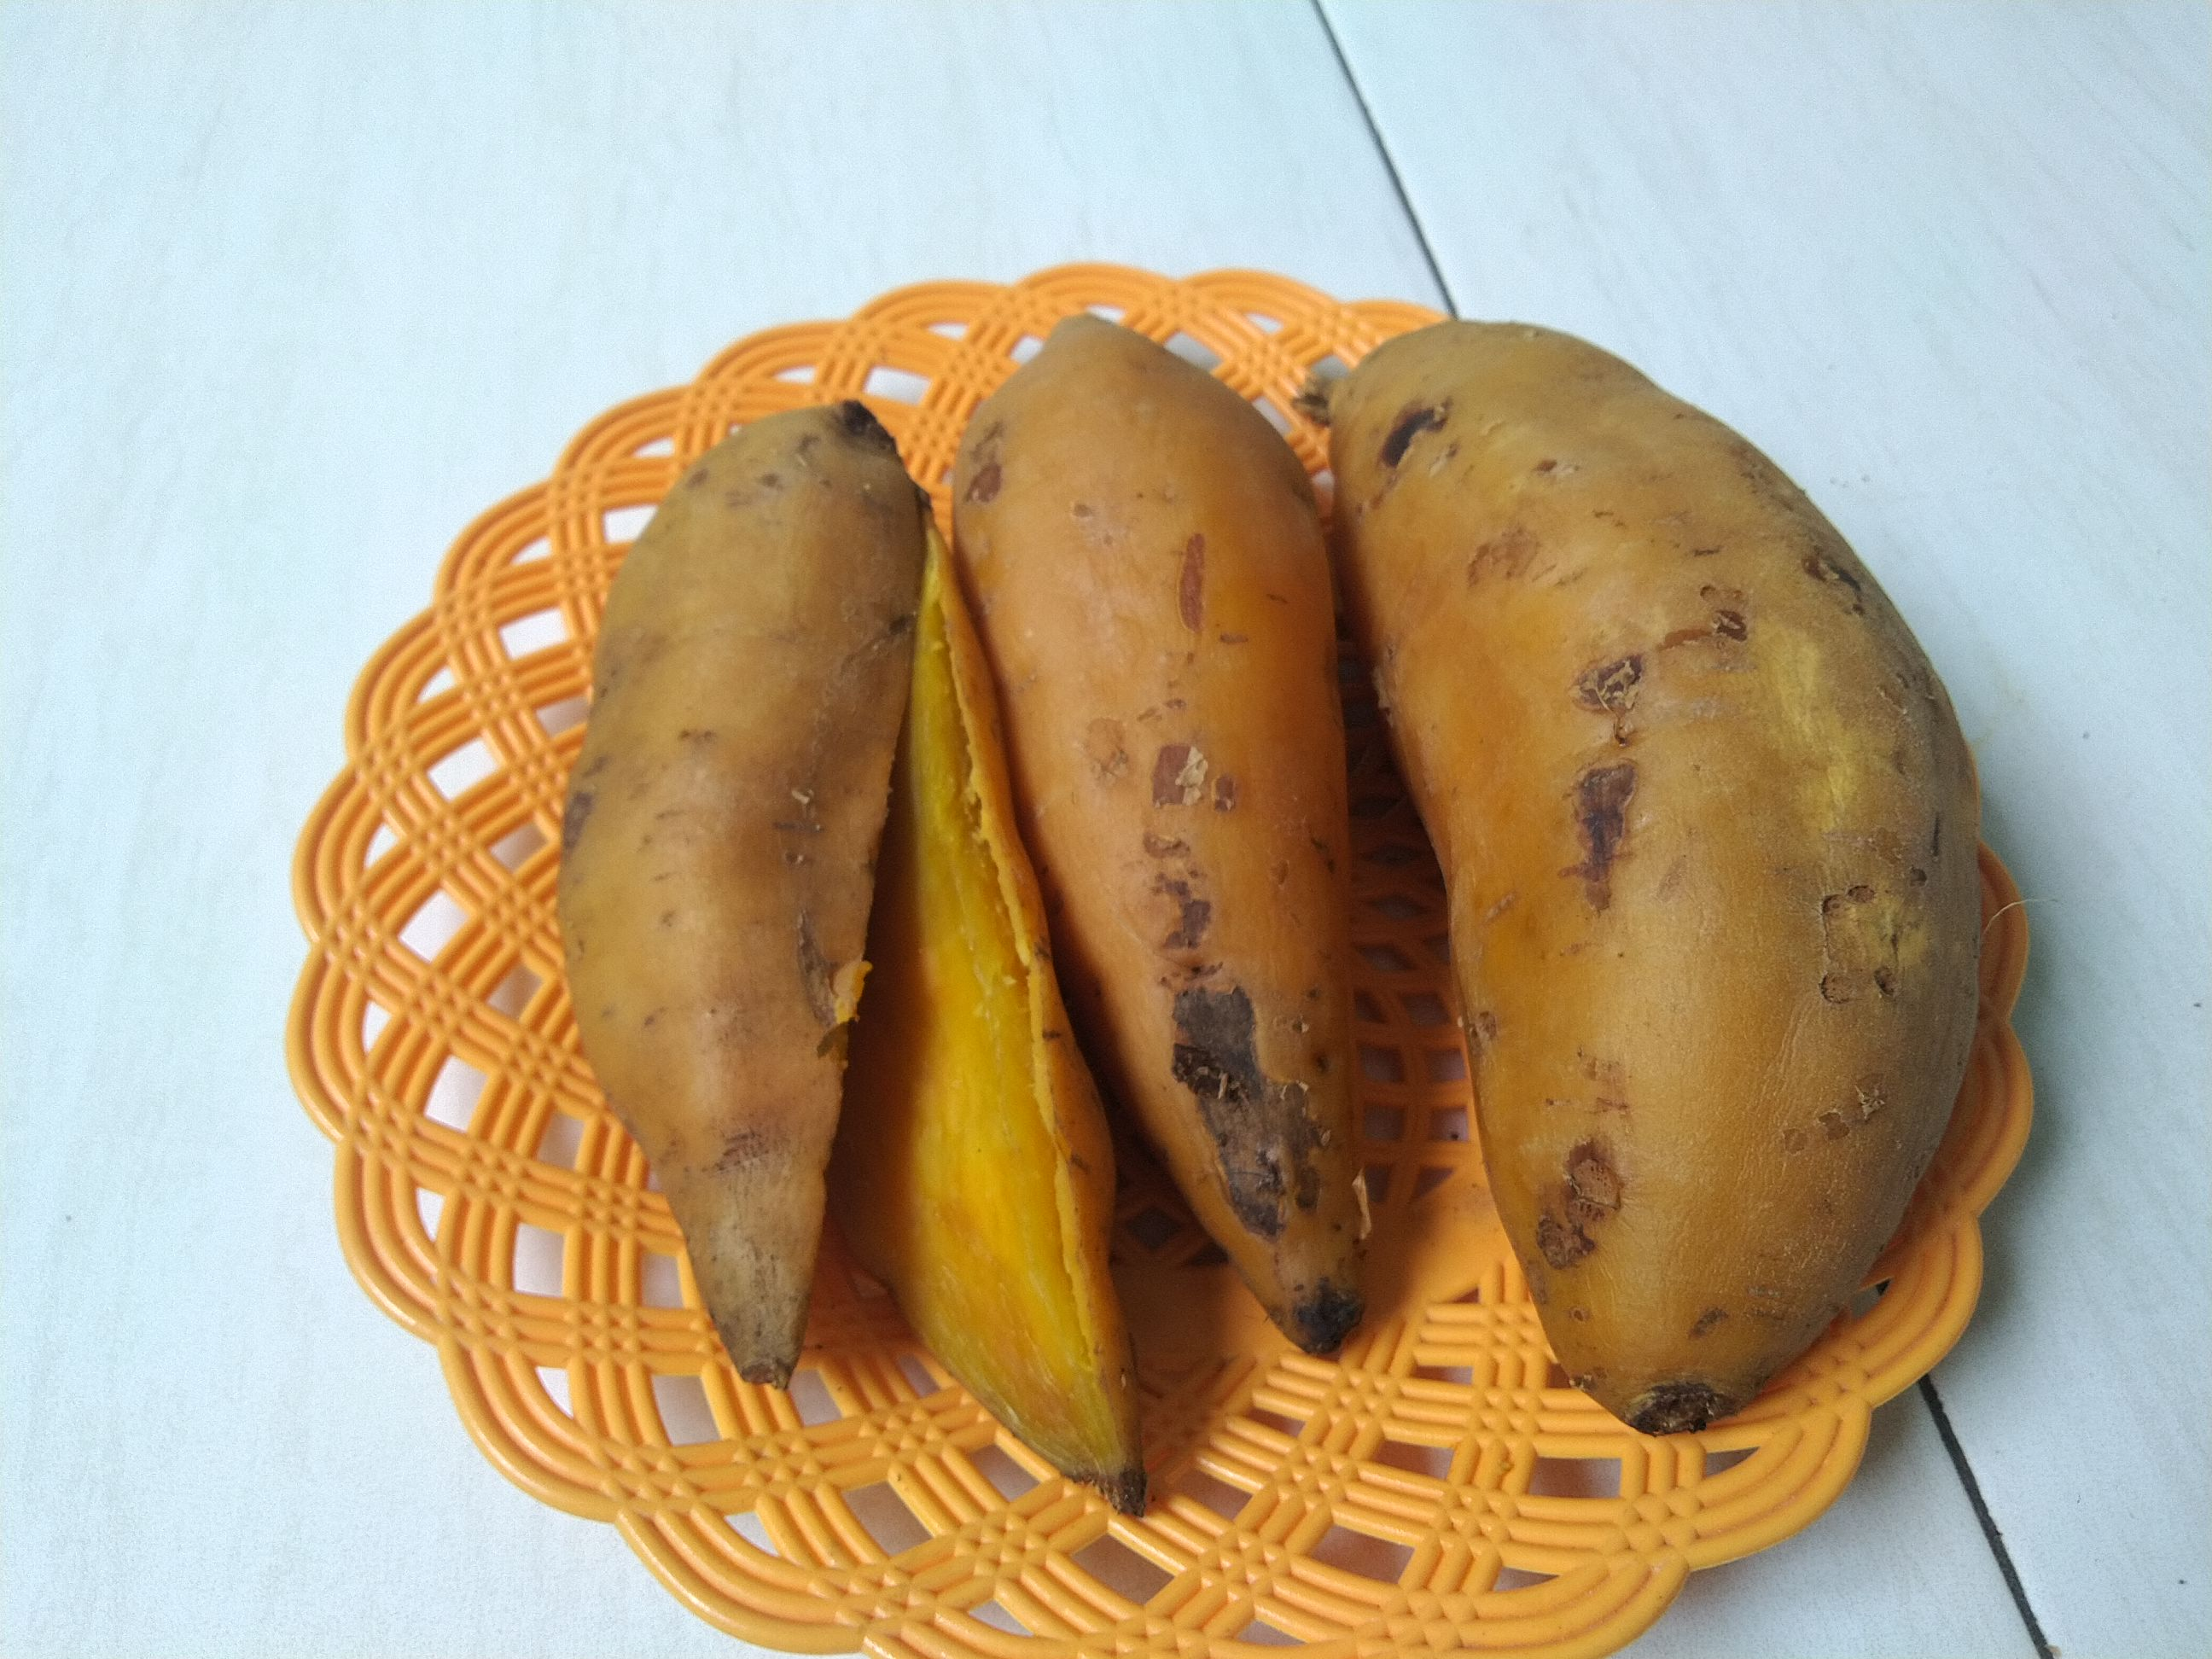ubi cilembu: (1313, 312, 1993, 1446), (552, 401, 1150, 1546), (953, 310, 1366, 1358), (813, 502, 1158, 1532), (573, 396, 883, 1384)
